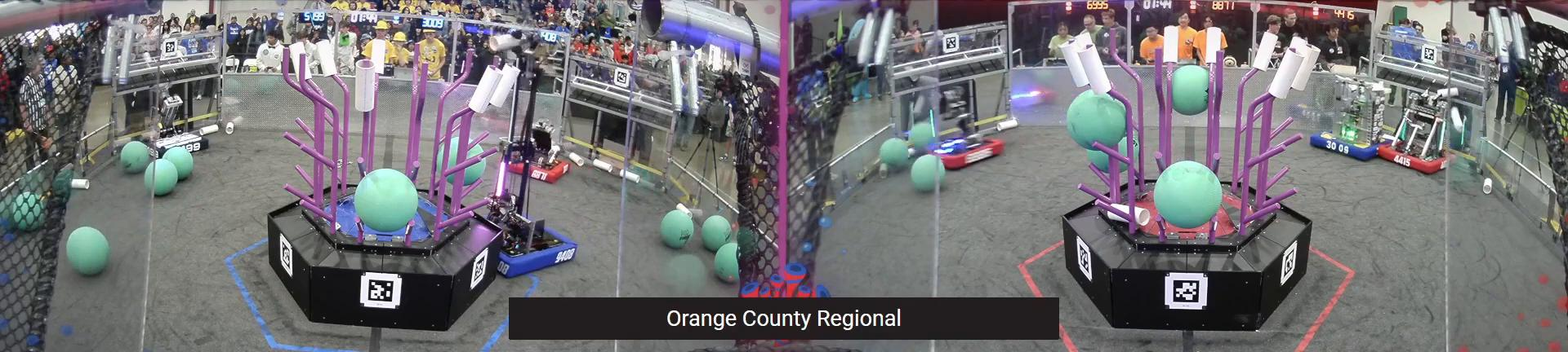coral: (1268, 48, 1305, 99), (1076, 43, 1111, 95), (467, 65, 503, 114), (1059, 38, 1089, 88), (1291, 43, 1321, 91), (490, 63, 520, 107), (355, 59, 375, 110), (1253, 31, 1278, 71), (315, 40, 338, 78), (289, 42, 311, 80), (1162, 26, 1179, 64), (1205, 28, 1221, 64), (371, 39, 386, 75), (1075, 32, 1093, 50), (1288, 36, 1308, 52)
reef: (1066, 27, 1312, 329), (278, 34, 505, 324)
robot: (478, 26, 578, 278), (1380, 105, 1453, 174), (1315, 89, 1383, 160), (140, 97, 211, 161), (506, 120, 575, 184), (926, 117, 1003, 172)
